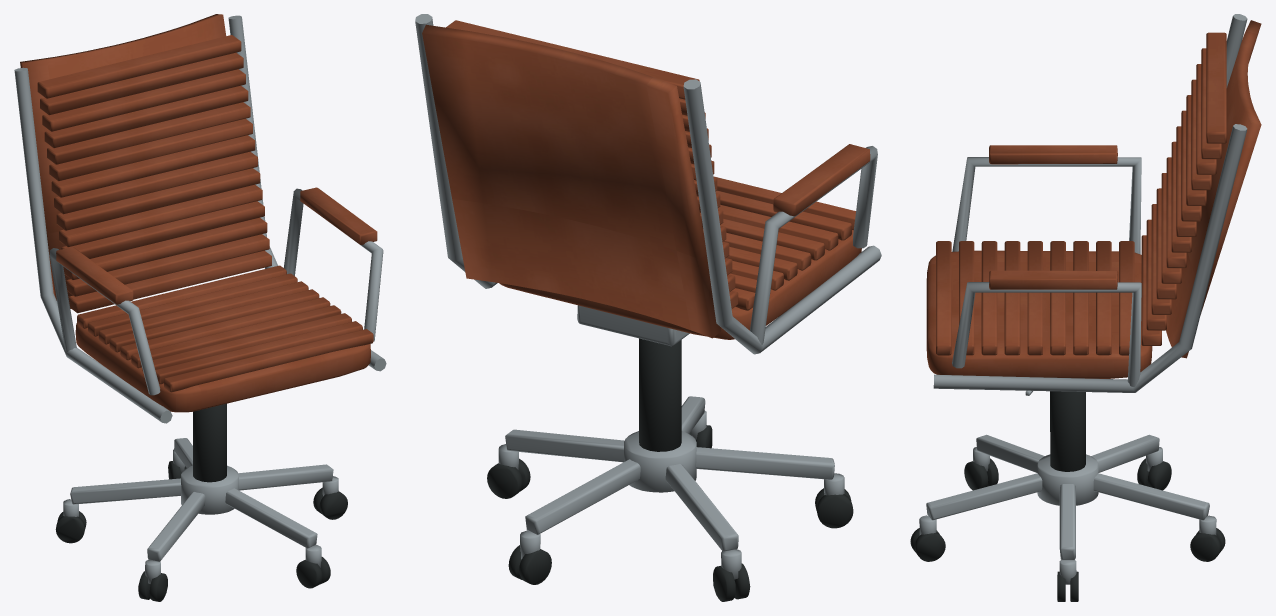
The model's file is detail_task_chair.glb.
The picture shows the model from 3 angles, left to right: view 1: azimuth 30°, elevation 25°; view 2: azimuth 150°, elevation 25°; view 3: azimuth 270°, elevation 25°; orthographic projection. The views are drawn at different scales.
Parts seen in each view (by area): view 1: Leather | arm sleeve, Aluminum | cantilever arm, Caster | twin wheel; view 2: Leather | arm sleeve, Aluminum | cantilever arm, Caster | twin wheel; view 3: Leather | arm sleeve, Aluminum | cantilever arm, Caster | twin wheel.
Part boxes in pixels (x1,y1,x2,y2): Leather | arm sleeve: [20, 14, 377, 412]; Aluminum | cantilever arm: [14, 15, 386, 583]; Caster | twin wheel: [55, 403, 347, 601]; Leather | arm sleeve: [422, 20, 870, 339]; Aluminum | cantilever arm: [415, 14, 881, 579]; Caster | twin wheel: [487, 338, 853, 601]; Leather | arm sleeve: [926, 20, 1261, 378]; Aluminum | cantilever arm: [919, 14, 1247, 584]; Caster | twin wheel: [910, 391, 1225, 601].
Size of the model in its own units: 0.6896 by 1.11 by 0.7519.
Materials: 3 (1 with a texture image).
